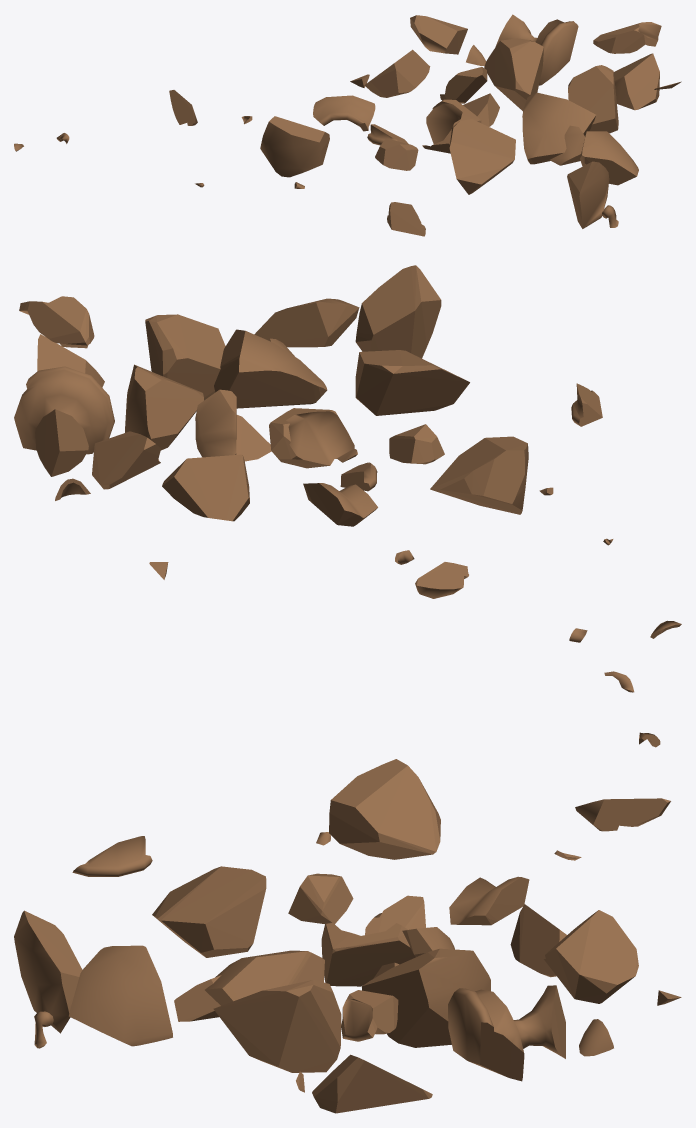
Rendered from vase left fragments.fbx.
3 views of the same model, one above another, from view 1: azimuth 30°, elevation 25°; view 2: azimuth 150°, elevation 25°; view 3: azimuth 270°, elevation 25° (orthographic). The views are drawn at different scales.
Visible parts, largest first — view 1: Vase left fragments; view 2: Vase left fragments; view 3: Vase left fragments.
Boxes of the visible parts, bbox=[...] form: Vase left fragments: bbox=[14, 14, 681, 236]; Vase left fragments: bbox=[14, 265, 681, 642]; Vase left fragments: bbox=[14, 671, 681, 1113].
Bounding box in the file's own units: 147 × 22.99 × 97.36.
